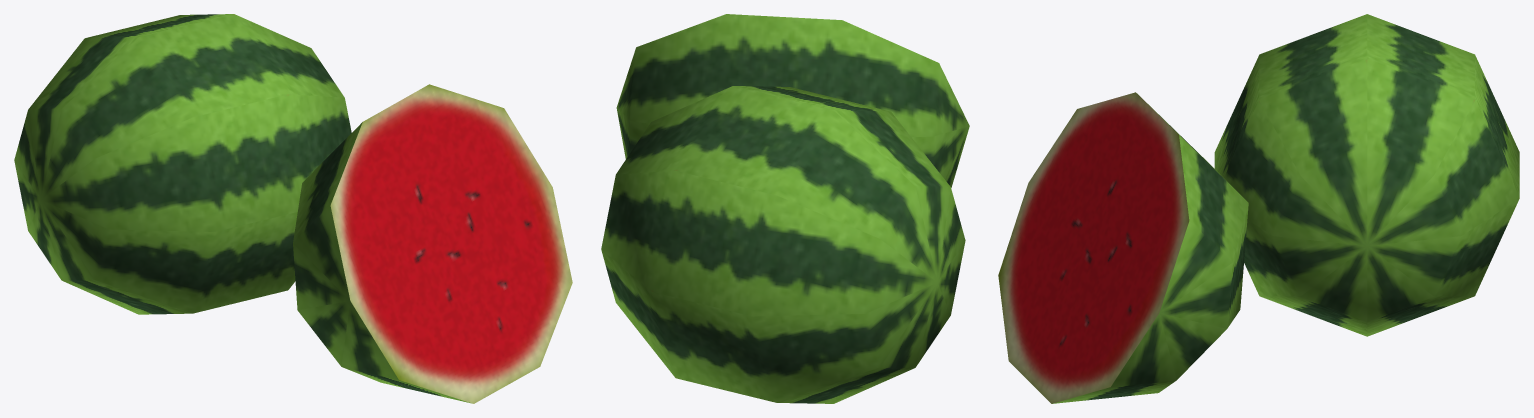
File: watermelon.fbx
3 views of the same model, side by side, from view 1: azimuth 30°, elevation 25°; view 2: azimuth 150°, elevation 25°; view 3: azimuth 270°, elevation 25° (orthographic). The views are drawn at different scales.
Parts seen in each view (by area): view 1: Mesh Object, Mesh Object_ncl1_1; view 2: Mesh Object, Mesh Object_ncl1_1; view 3: Mesh Object, Mesh Object_ncl1_1.
Part boxes in pixels (<box>): Mesh Object: <box>14,14,351,314</box>; Mesh Object_ncl1_1: <box>293,84,572,403</box>; Mesh Object: <box>601,86,965,403</box>; Mesh Object_ncl1_1: <box>616,14,969,187</box>; Mesh Object: <box>1214,14,1519,336</box>; Mesh Object_ncl1_1: <box>998,92,1248,403</box>.
Bounding box in the file's own units: 0.4061 × 0.2676 × 0.4514.
